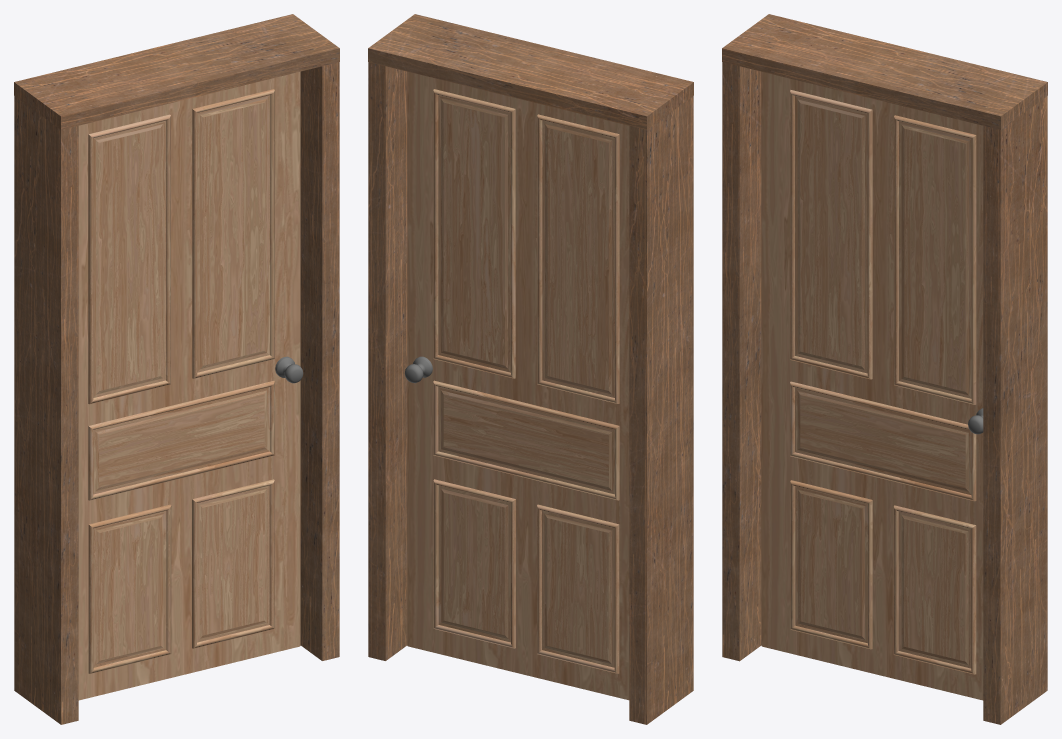
The model's file is Door_03.fbx.
The picture shows the model from 3 angles, left to right: view 1: azimuth 30°, elevation 25°; view 2: azimuth 150°, elevation 25°; view 3: azimuth 330°, elevation 25°; orthographic projection.
Parts seen in each view (by area): view 1: Door_03, Door_03_Frame; view 2: Door_03, Door_03_Frame; view 3: Door_03, Door_03_Frame.
Boxes of the visible parts, x1,y1,x2,y2 form: Door_03: (78, 71, 303, 700); Door_03_Frame: (14, 14, 339, 724); Door_03: (404, 71, 629, 700); Door_03_Frame: (368, 14, 693, 724); Door_03: (761, 71, 983, 700); Door_03_Frame: (722, 14, 1047, 724).
Size of the model in its own units: 1.03 by 2.15 by 0.3.
